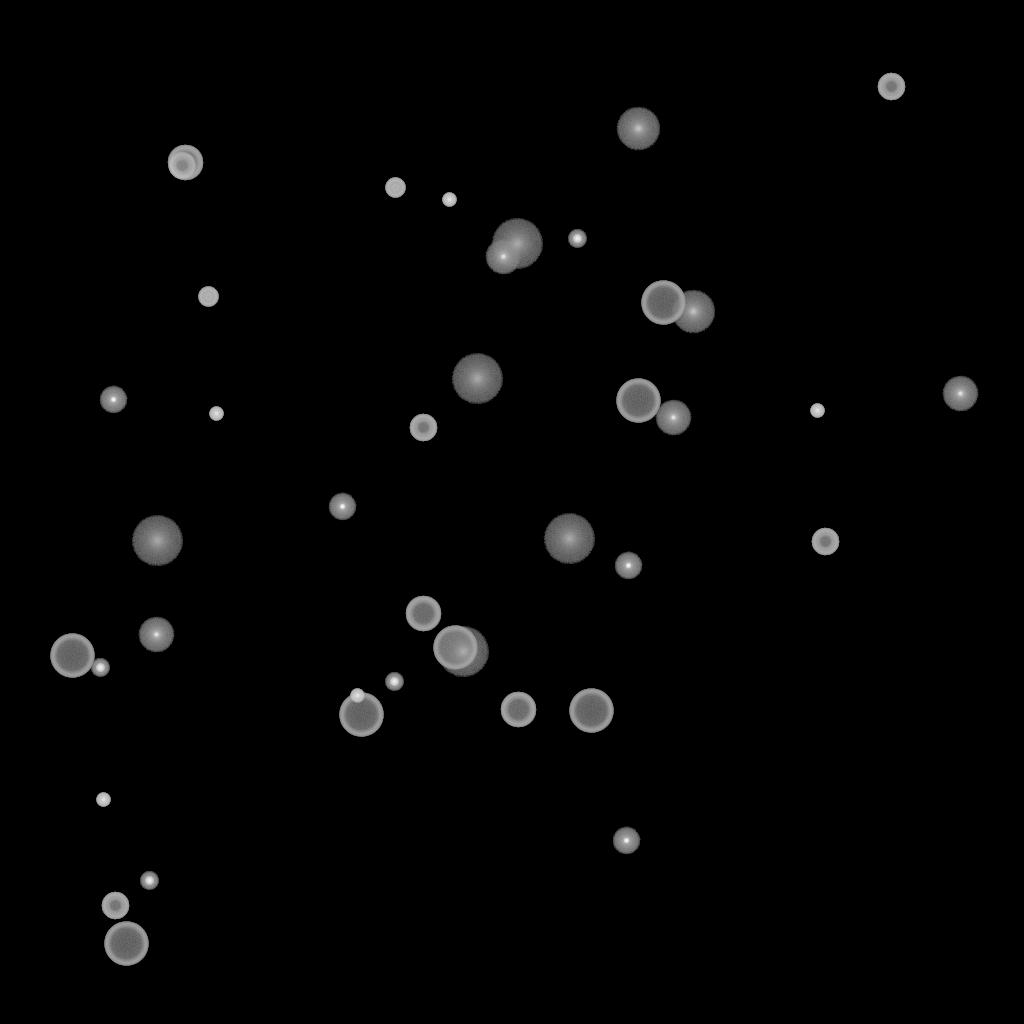depth:-10: (99, 386, 127, 414), (614, 552, 642, 580), (328, 493, 356, 521), (612, 827, 640, 855)
depth:-20: (568, 230, 586, 248), (91, 659, 109, 677), (385, 673, 403, 691), (140, 872, 158, 890)
depth:-30: (350, 689, 364, 703), (442, 193, 456, 207), (96, 793, 110, 807), (209, 407, 223, 421), (810, 404, 824, 418)
depth:-40: (198, 287, 218, 307), (385, 178, 405, 198)
depth:-50: (101, 892, 129, 920), (811, 528, 839, 556), (168, 152, 196, 180), (409, 414, 437, 442), (877, 73, 905, 101)
depth:-60: (405, 596, 441, 632), (167, 145, 203, 181), (500, 692, 536, 728)
depth:-70: (641, 281, 685, 325), (104, 922, 148, 966), (339, 693, 383, 737), (616, 379, 660, 423), (50, 634, 94, 678), (433, 626, 477, 670), (569, 689, 613, 733)
depth:0: (485, 239, 521, 275), (138, 617, 174, 653), (942, 376, 978, 412), (655, 400, 691, 436)
depth:10: (671, 290, 715, 334), (616, 107, 660, 151)
depth:20: (437, 627, 489, 677), (491, 219, 543, 269), (543, 514, 595, 564), (451, 354, 503, 404), (131, 516, 183, 566)
